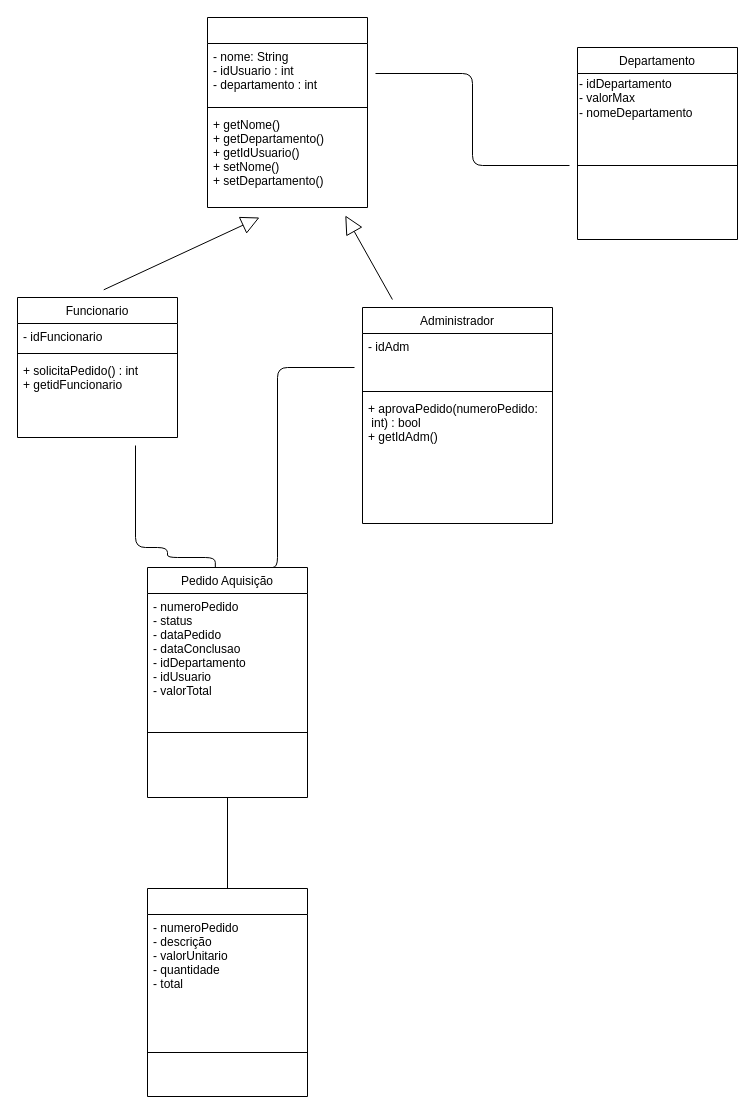
This 755x1114 diagram has some shape labels left out. The box of each missing label's shape, as (x1, y1, x2, y2) in pixels:
Item: (146, 888, 308, 1096)
Usuário: (206, 16, 368, 208)
